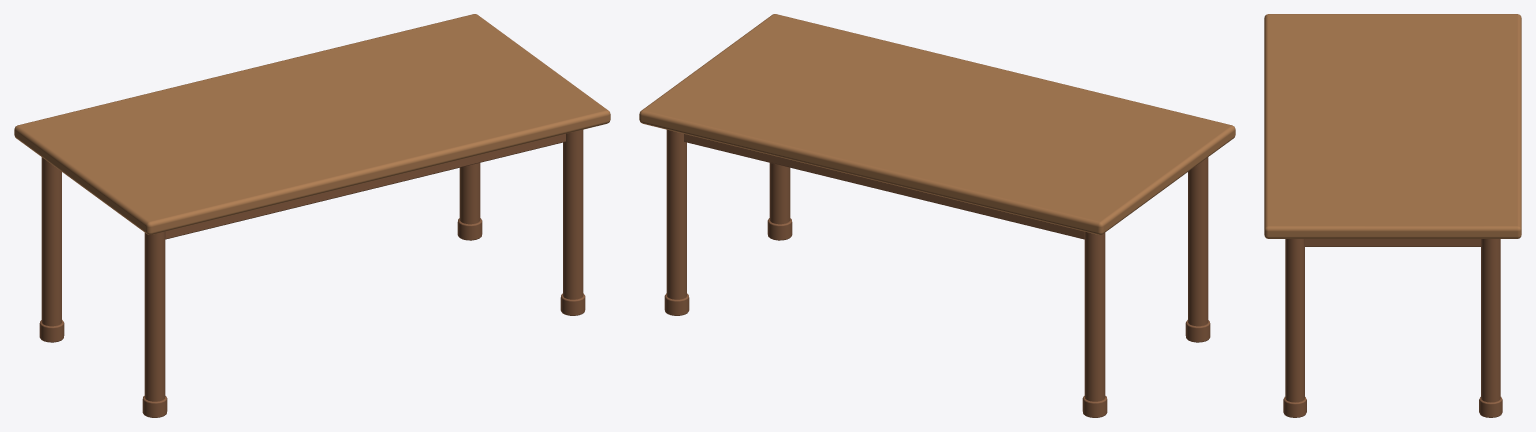
Rendered from dining_table.glb.
3 renders of one model, left to right at view 1: azimuth 30°, elevation 25°; view 2: azimuth 150°, elevation 25°; view 3: azimuth 270°, elevation 25°, orthographic. The views are drawn at different scales.
Visible parts, largest first — view 1: Cube, Cylinder.002, Cylinder.006, Cube.001, Cylinder, Cylinder.004; view 2: Cube, Cylinder, Cylinder.004, Cube.001, Cylinder.002, Cylinder.006; view 3: Cube, Cylinder.004, Cylinder.006, Cube.001, Cylinder.005, Cylinder.007.
Boxes of the visible parts, box(x1,y1,x2,y2) form: Cube: box(14, 14, 610, 234); Cylinder.002: box(144, 231, 165, 401); Cylinder.006: box(563, 129, 583, 299); Cube.001: box(165, 134, 565, 239); Cylinder: box(41, 157, 61, 326); Cylinder.004: box(459, 163, 480, 224); Cube: box(639, 14, 1235, 234); Cylinder: box(1084, 231, 1105, 401); Cylinder.004: box(666, 129, 686, 299); Cube.001: box(684, 134, 1084, 239); Cylinder.002: box(1188, 157, 1208, 326); Cylinder.006: box(769, 163, 790, 224); Cube: box(1264, 14, 1521, 238); Cylinder.004: box(1481, 239, 1500, 402); Cylinder.006: box(1285, 239, 1304, 402); Cube.001: box(1305, 239, 1480, 246); Cylinder.005: box(1479, 397, 1502, 417); Cylinder.007: box(1283, 397, 1306, 417).
Size of the model in its own units: 1.82 by 0.775 by 0.92.
